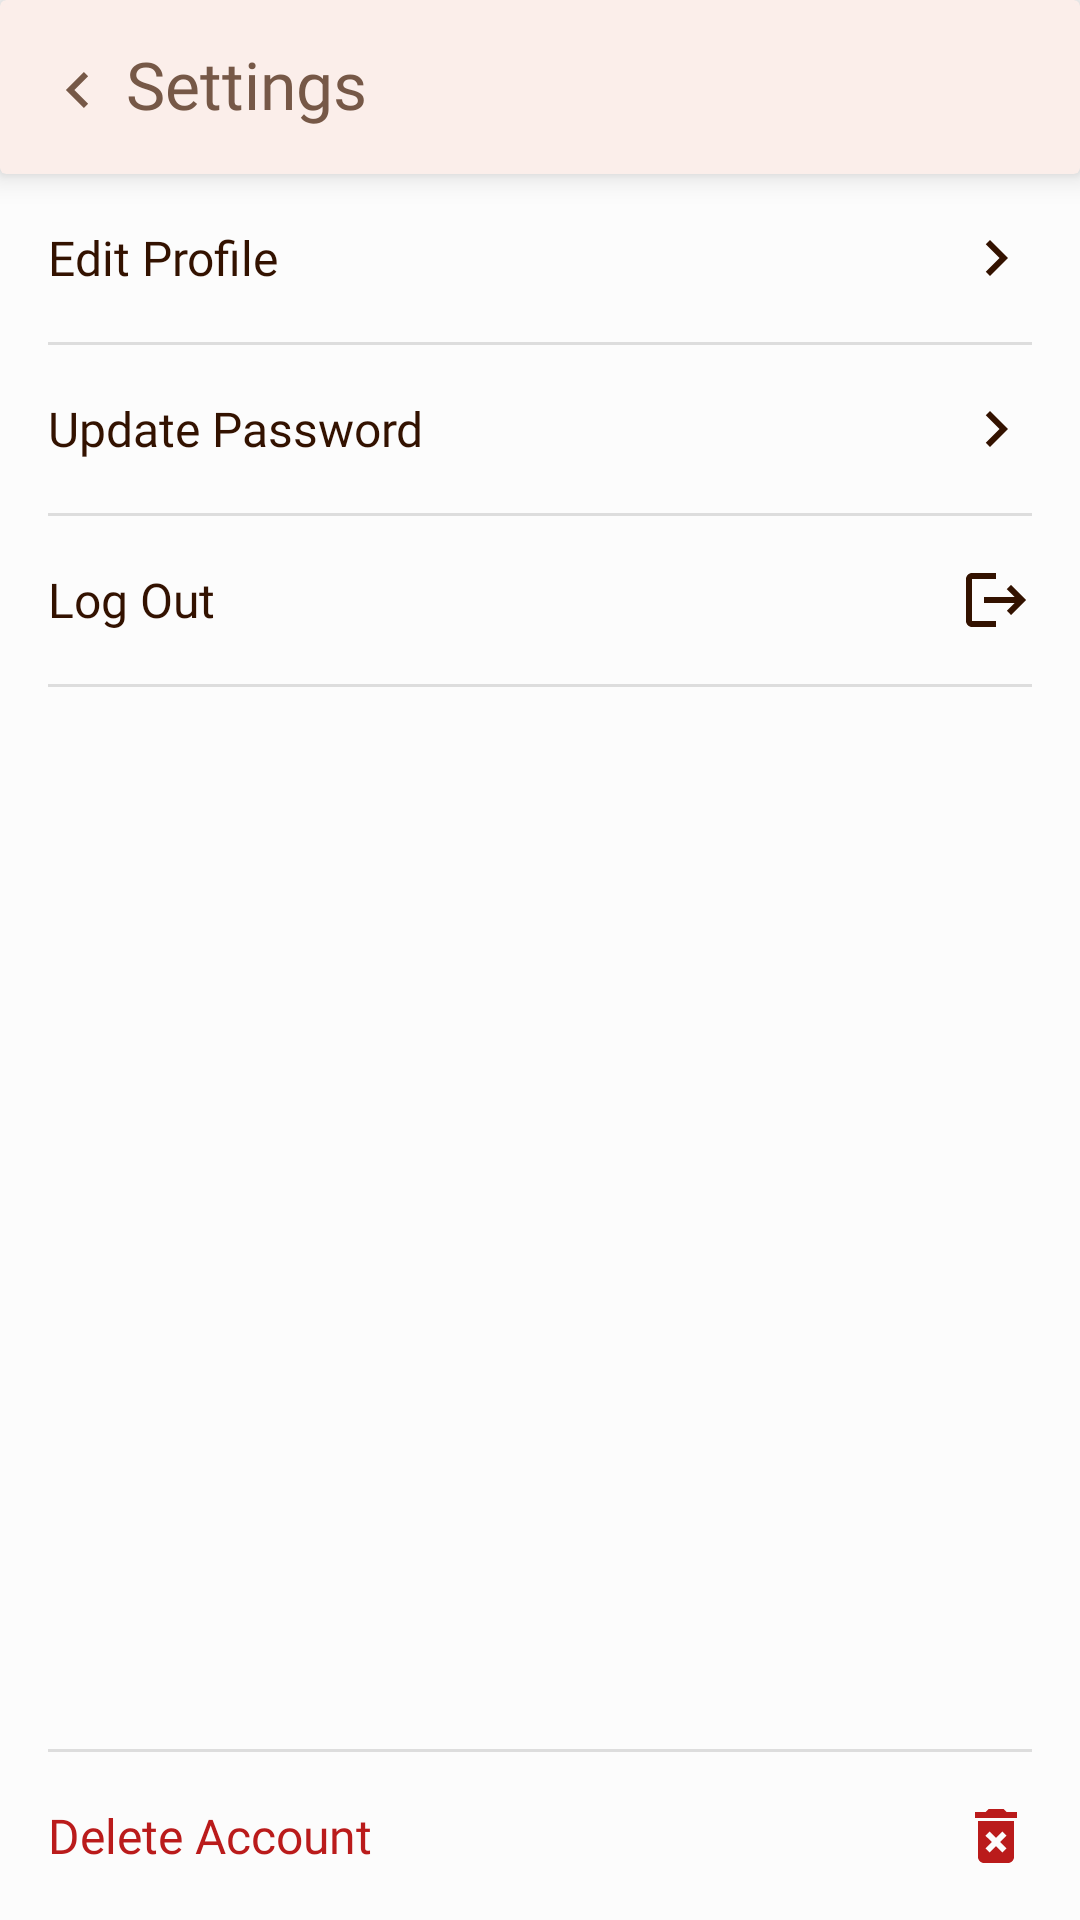

Point at icon controls on the screen. Image size 1080px x 1920px, points as (x=x, y=y).
arrow back: (x=77, y=90)
delete forever: (x=996, y=1836)
navigate next setttings: (x=997, y=258), (x=997, y=429)
